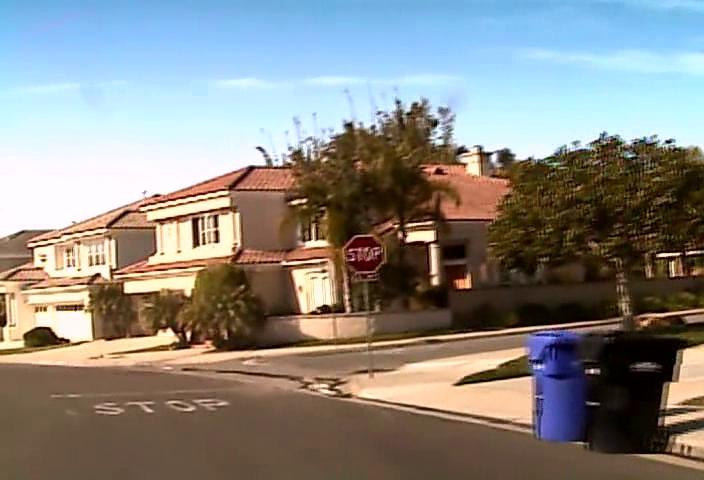stop: (342, 234, 386, 273)
